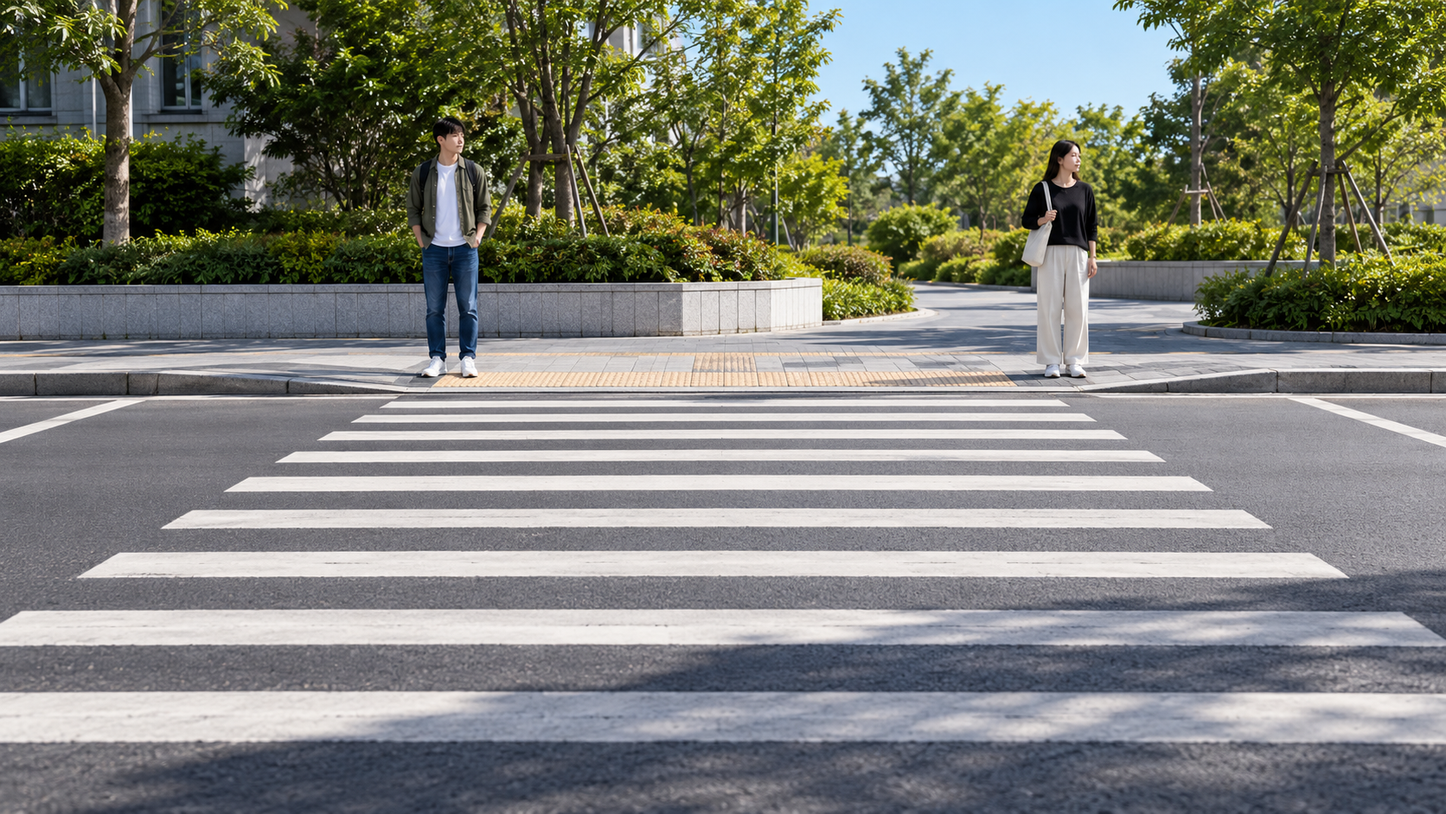person: (406, 117, 468, 381), (1044, 137, 1092, 378)
zebra_crossing: (74, 389, 1211, 582)
